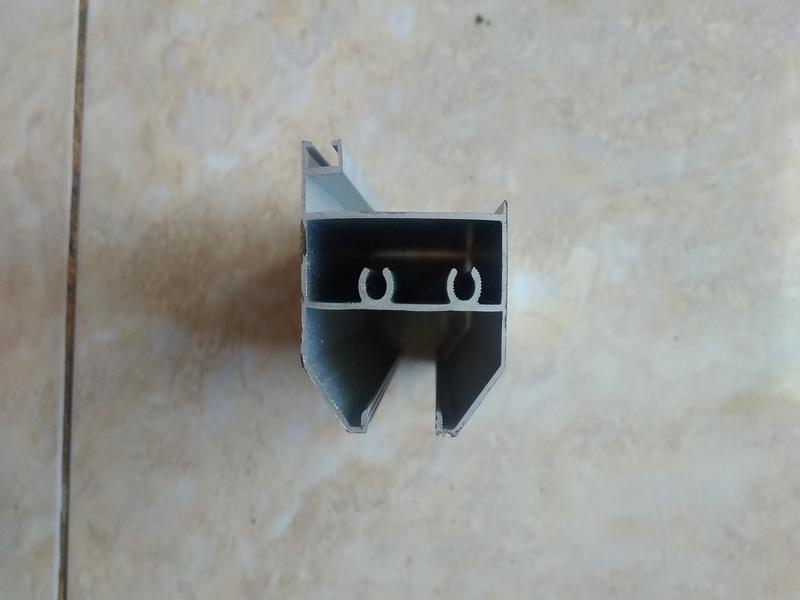Aluminium_3: (280, 120, 528, 449)
